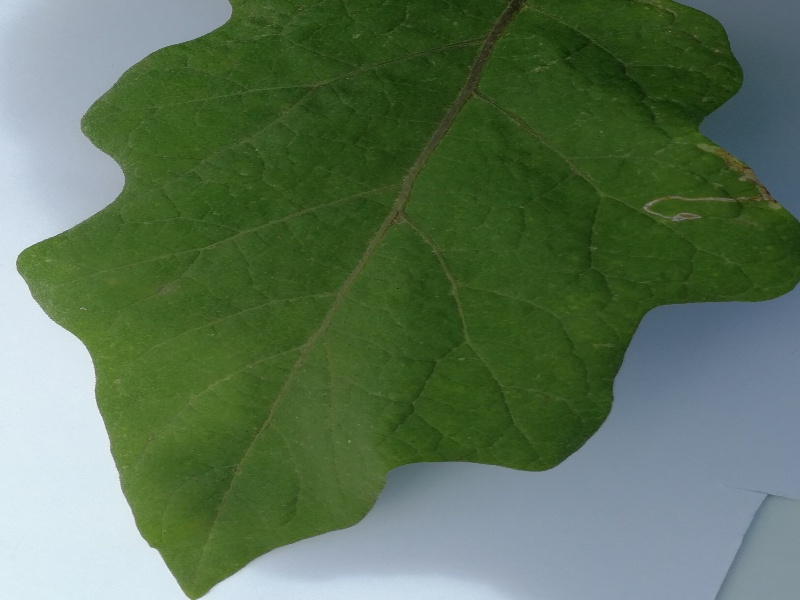leafminer: (634, 139, 784, 231)
